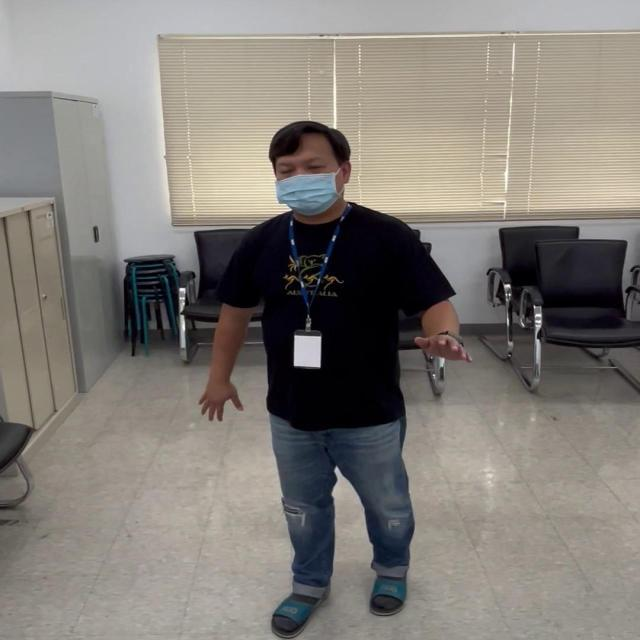bare_hand: (411, 324, 470, 366), (195, 372, 242, 424)
